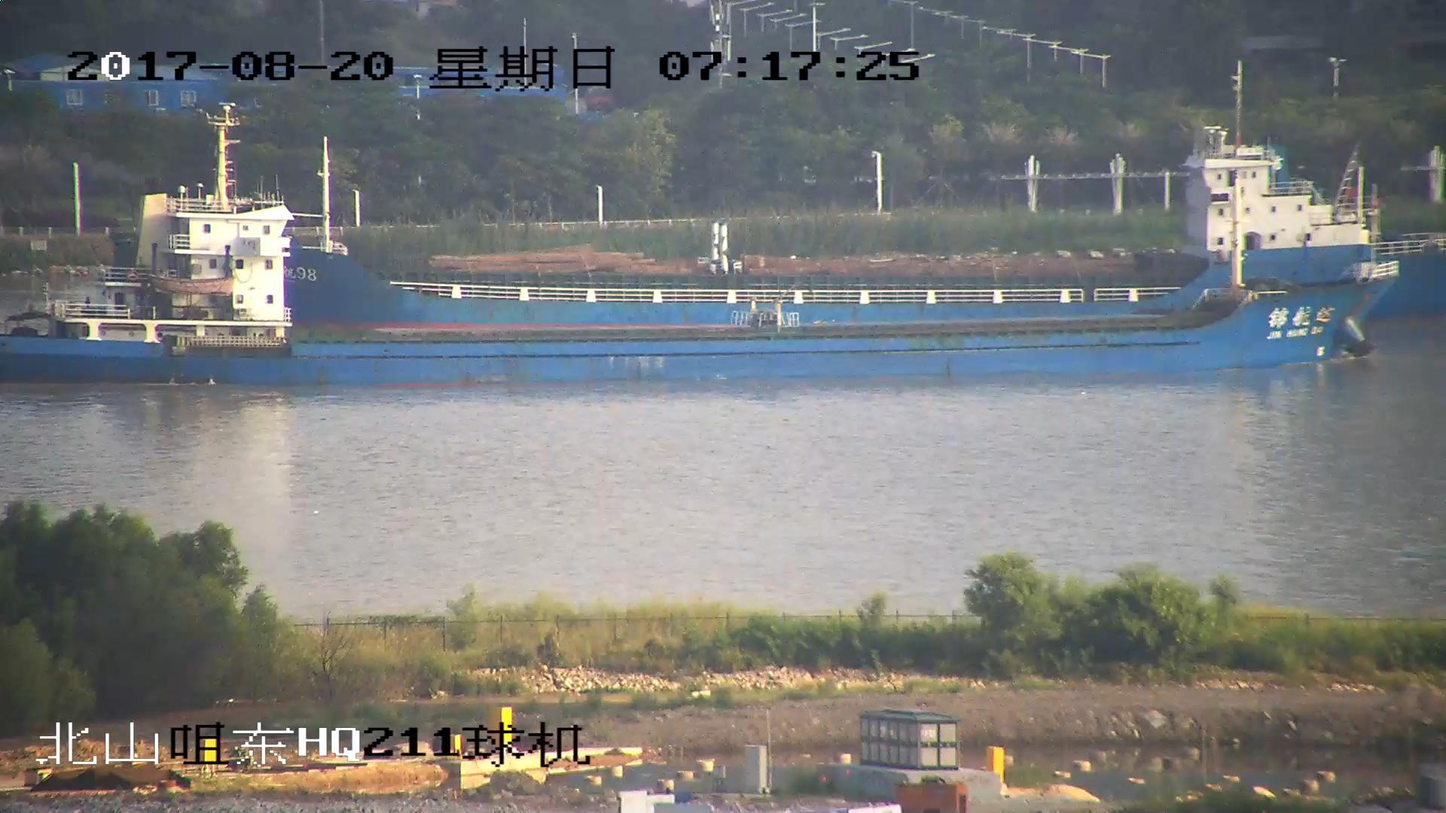general cargo ship: (0, 119, 1380, 377), (113, 90, 1445, 335)
